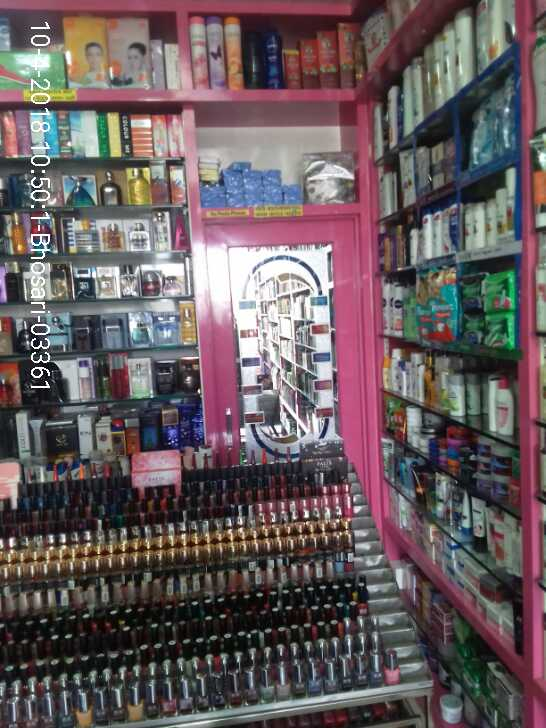venus: (493, 78, 516, 154), (470, 101, 491, 171)
